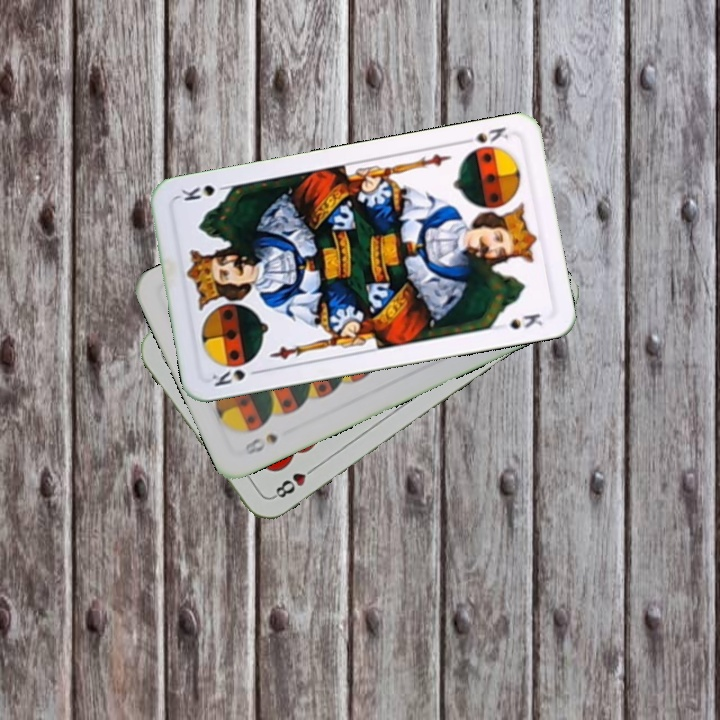H8: (268, 461, 320, 501)
S8: (241, 429, 281, 458)
SK: (208, 365, 265, 389), (457, 122, 511, 147)
